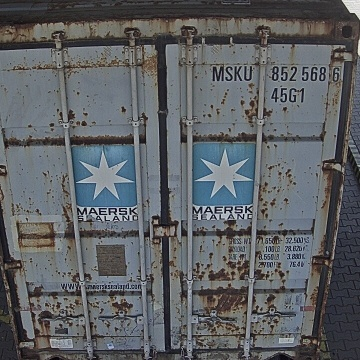serial_id: (212, 66, 341, 81)
